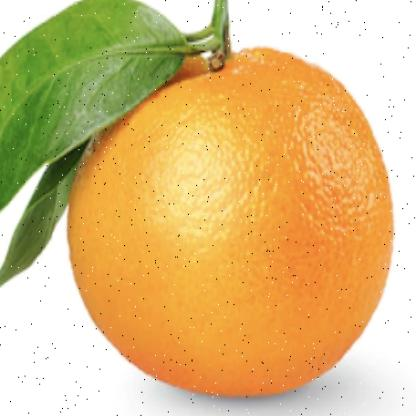fresh: (65, 33, 396, 398)
